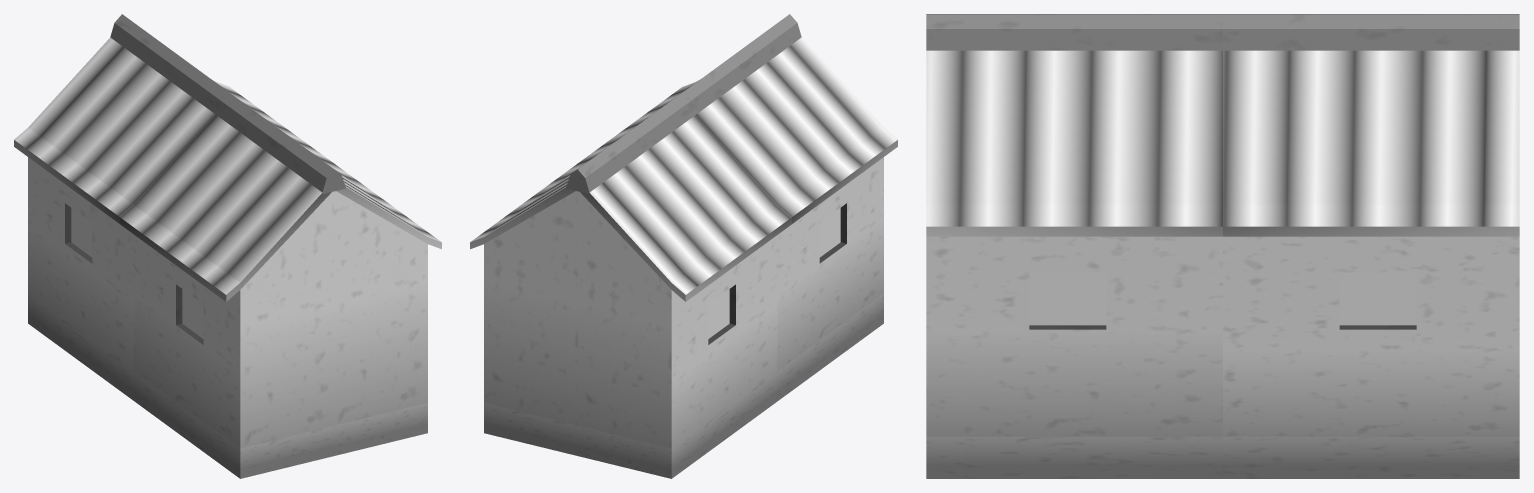
The model's file is WesternHouseB.fbx.
The picture shows the model from 3 angles, left to right: view 1: azimuth 30°, elevation 25°; view 2: azimuth 150°, elevation 25°; view 3: azimuth 270°, elevation 25°; orthographic projection. The views are drawn at different scales.
Parts seen in each view (by area): view 1: HouseB; view 2: HouseB; view 3: HouseB.
Boxes of the visible parts, box(x1,y1,x2,y2) form: HouseB: box(14, 14, 441, 478); HouseB: box(470, 14, 897, 478); HouseB: box(926, 14, 1519, 478).
Bounding box in the file's own units: 744 × 945 × 1268.
